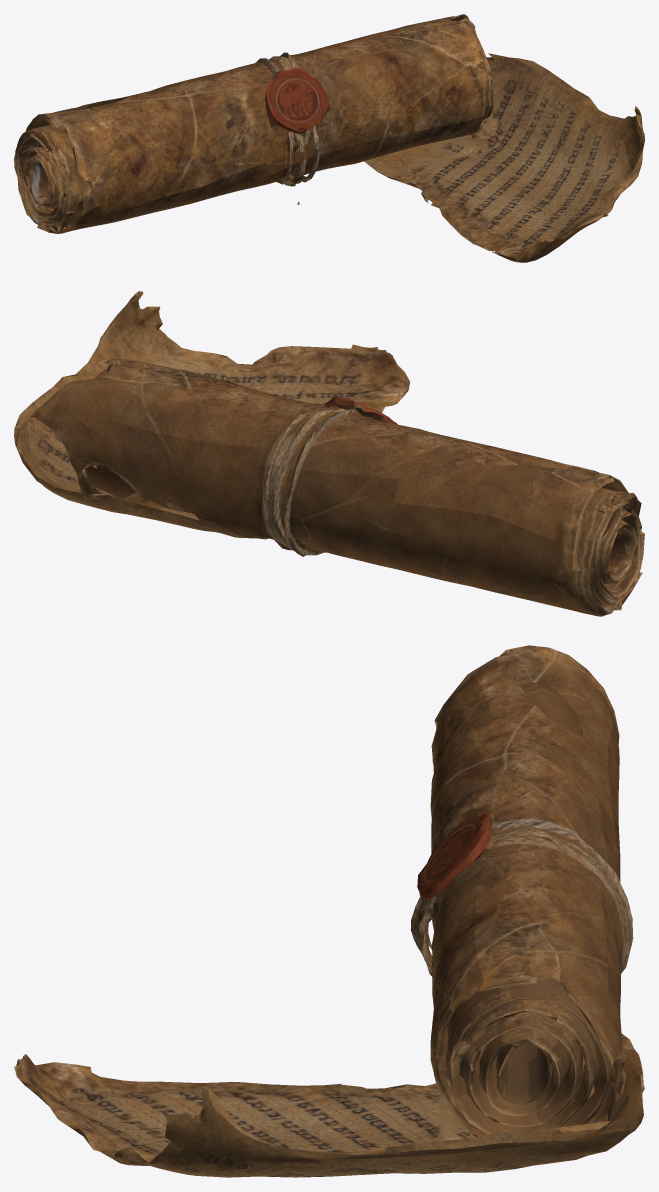
The model's file is yorliq.glb.
3 renders of one model, top to bottom at view 1: azimuth 30°, elevation 25°; view 2: azimuth 150°, elevation 25°; view 3: azimuth 270°, elevation 25°, orthographic. The views are drawn at different scales.
Parts seen in each view (by area): view 1: Mesh0; view 2: Mesh0; view 3: Mesh0.
Part boxes in pixels (box(x1,y1,x2,y2)): Mesh0: box(14, 14, 644, 262); Mesh0: box(14, 291, 644, 616); Mesh0: box(14, 645, 644, 1177).
Bounding box in the file's own units: 1.9 × 0.4334 × 1.24.
Materials: 1 (1 with a texture image).
